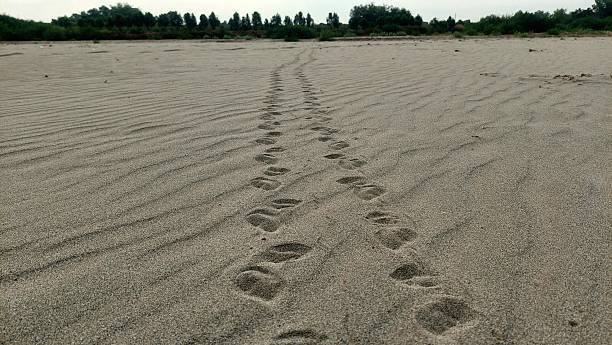animal_footprint: (415, 296, 476, 334), (234, 265, 283, 300), (390, 262, 438, 287), (336, 176, 385, 200), (257, 242, 311, 262), (375, 226, 417, 249), (271, 329, 327, 344), (246, 208, 280, 232), (355, 184, 385, 200), (365, 210, 399, 224), (250, 177, 280, 190), (271, 198, 302, 210), (338, 158, 366, 169), (311, 126, 338, 135), (264, 166, 290, 175), (336, 176, 365, 184), (255, 153, 277, 163), (257, 121, 279, 129), (329, 141, 349, 149), (256, 137, 276, 144), (323, 153, 344, 159), (259, 113, 275, 120), (264, 147, 285, 152), (318, 136, 333, 141), (266, 131, 281, 136)
